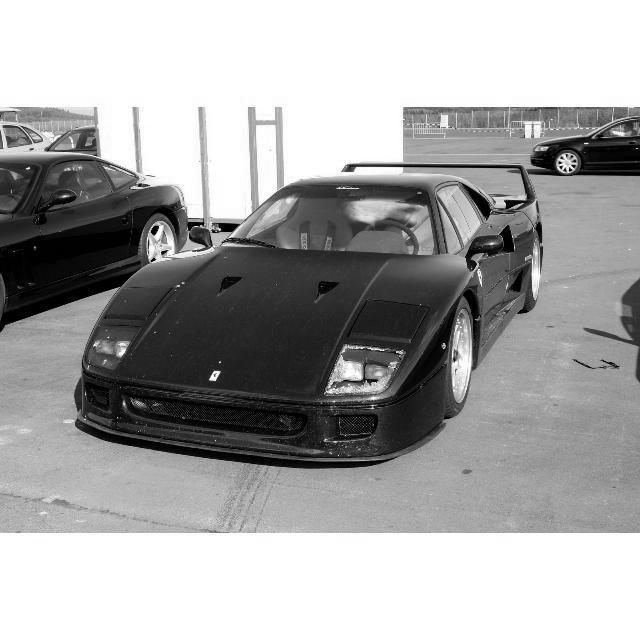Headlight-damage: (307, 335, 432, 411)
